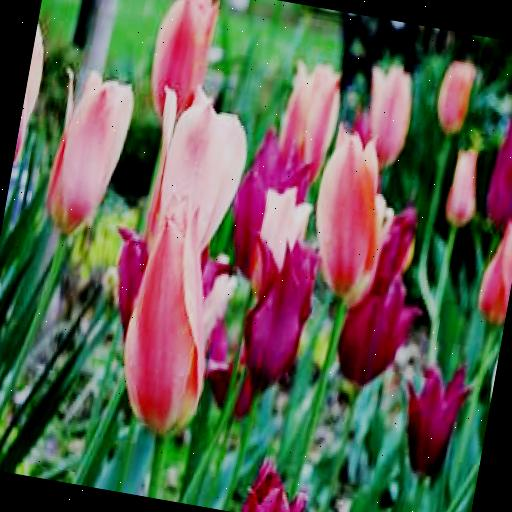tulip: (109, 192, 238, 442), (144, 86, 258, 257), (306, 124, 400, 300), (42, 66, 140, 234), (228, 238, 324, 392), (270, 58, 346, 186), (397, 359, 472, 480), (145, 0, 218, 110), (441, 146, 484, 224)
